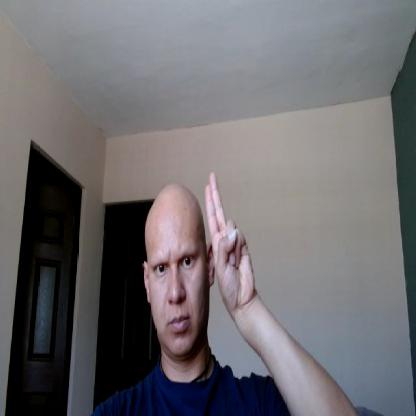U: (205, 170, 254, 307)
